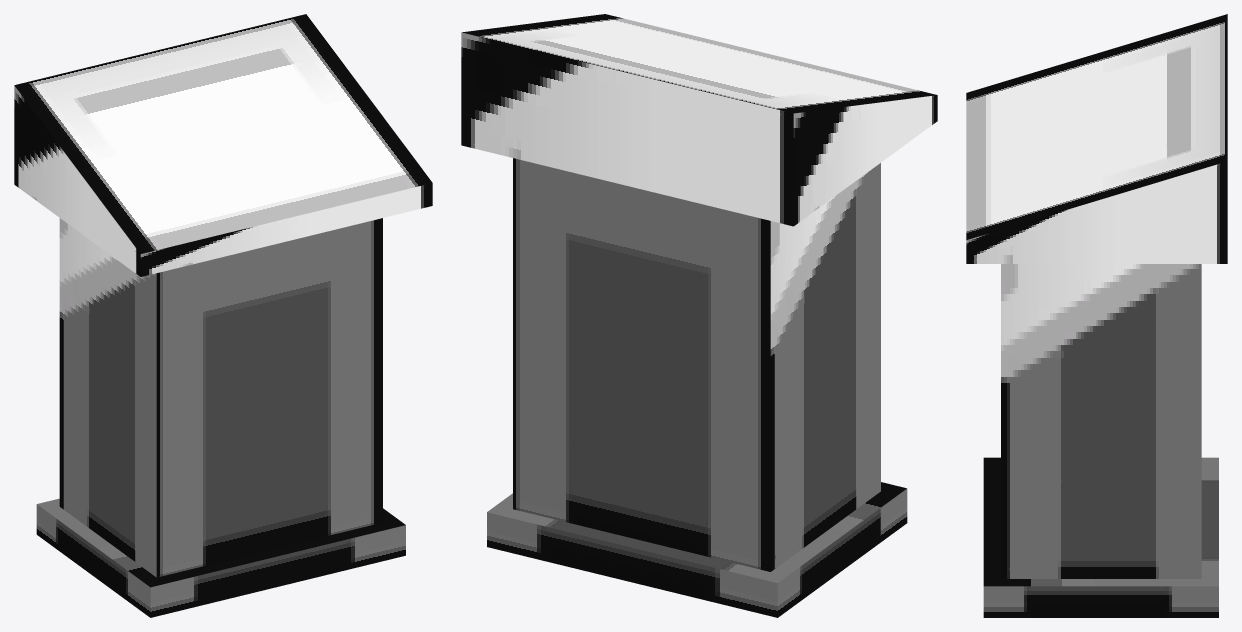
File: Building_Lectern.glb
3 views of the same model, side by side, from view 1: azimuth 30°, elevation 25°; view 2: azimuth 150°, elevation 25°; view 3: azimuth 270°, elevation 25° (orthographic). The views are drawn at different scales.
Visible parts, largest first — view 1: Lectern; view 2: Lectern; view 3: Lectern.
Part boxes in pixels (<box>): Lectern: <box>14,14,432,617</box>; Lectern: <box>461,14,937,617</box>; Lectern: <box>966,14,1227,617</box>.
Size of the model in its own units: 0.8 by 1.18 by 0.6.
1 material, 1 textured.
